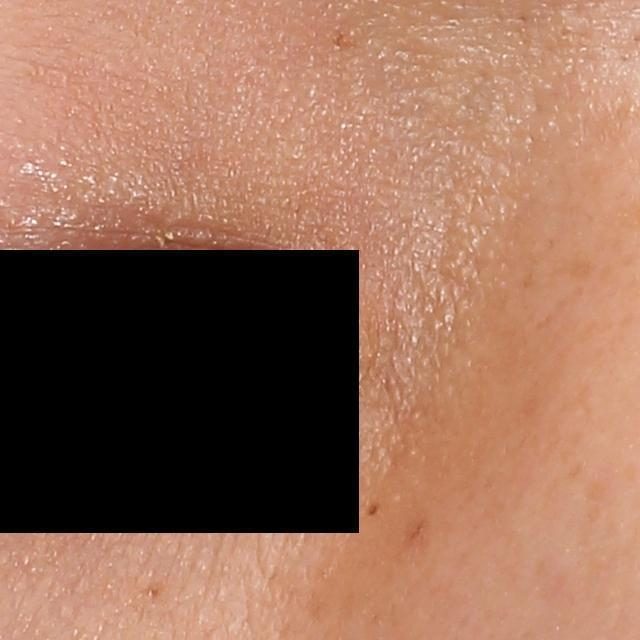nevus: (368, 504, 378, 518)
